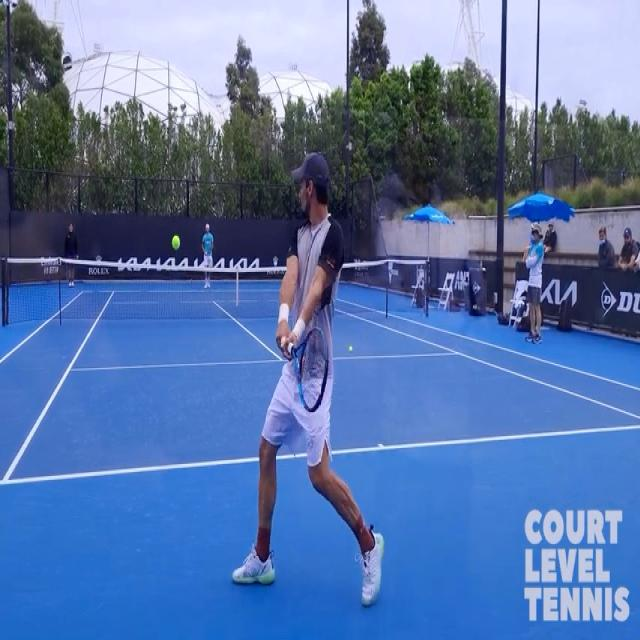backhand-ready: (229, 144, 386, 618)
